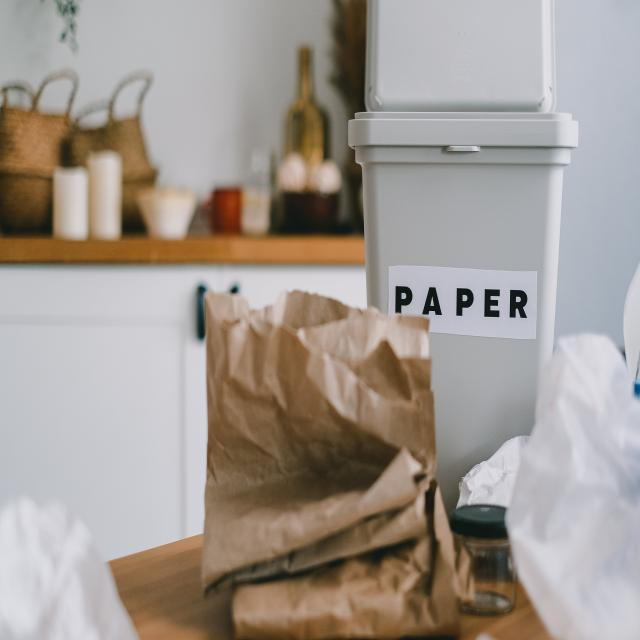paper: (223, 330, 419, 570)
